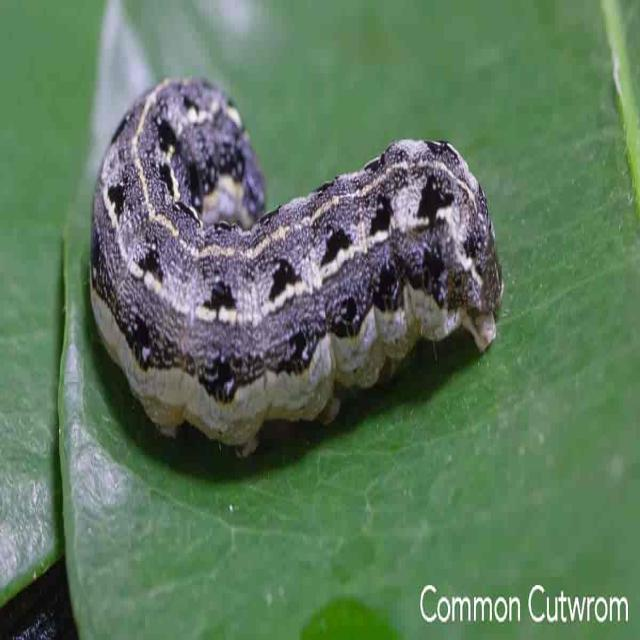worm: (89, 74, 505, 458)
